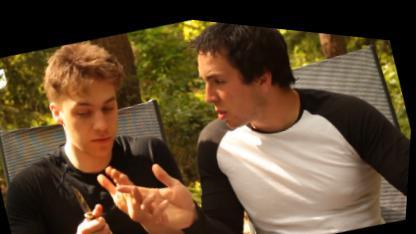knife: (54, 158, 123, 233)
